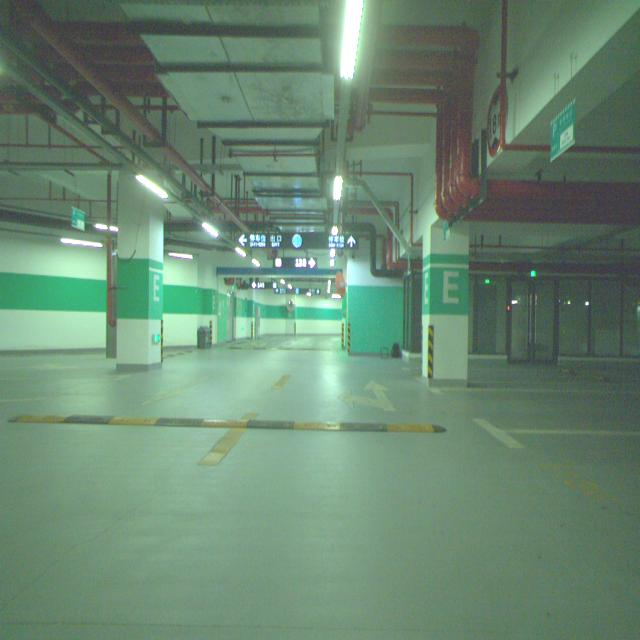pillar: (116, 172, 164, 370), (422, 223, 469, 384)
